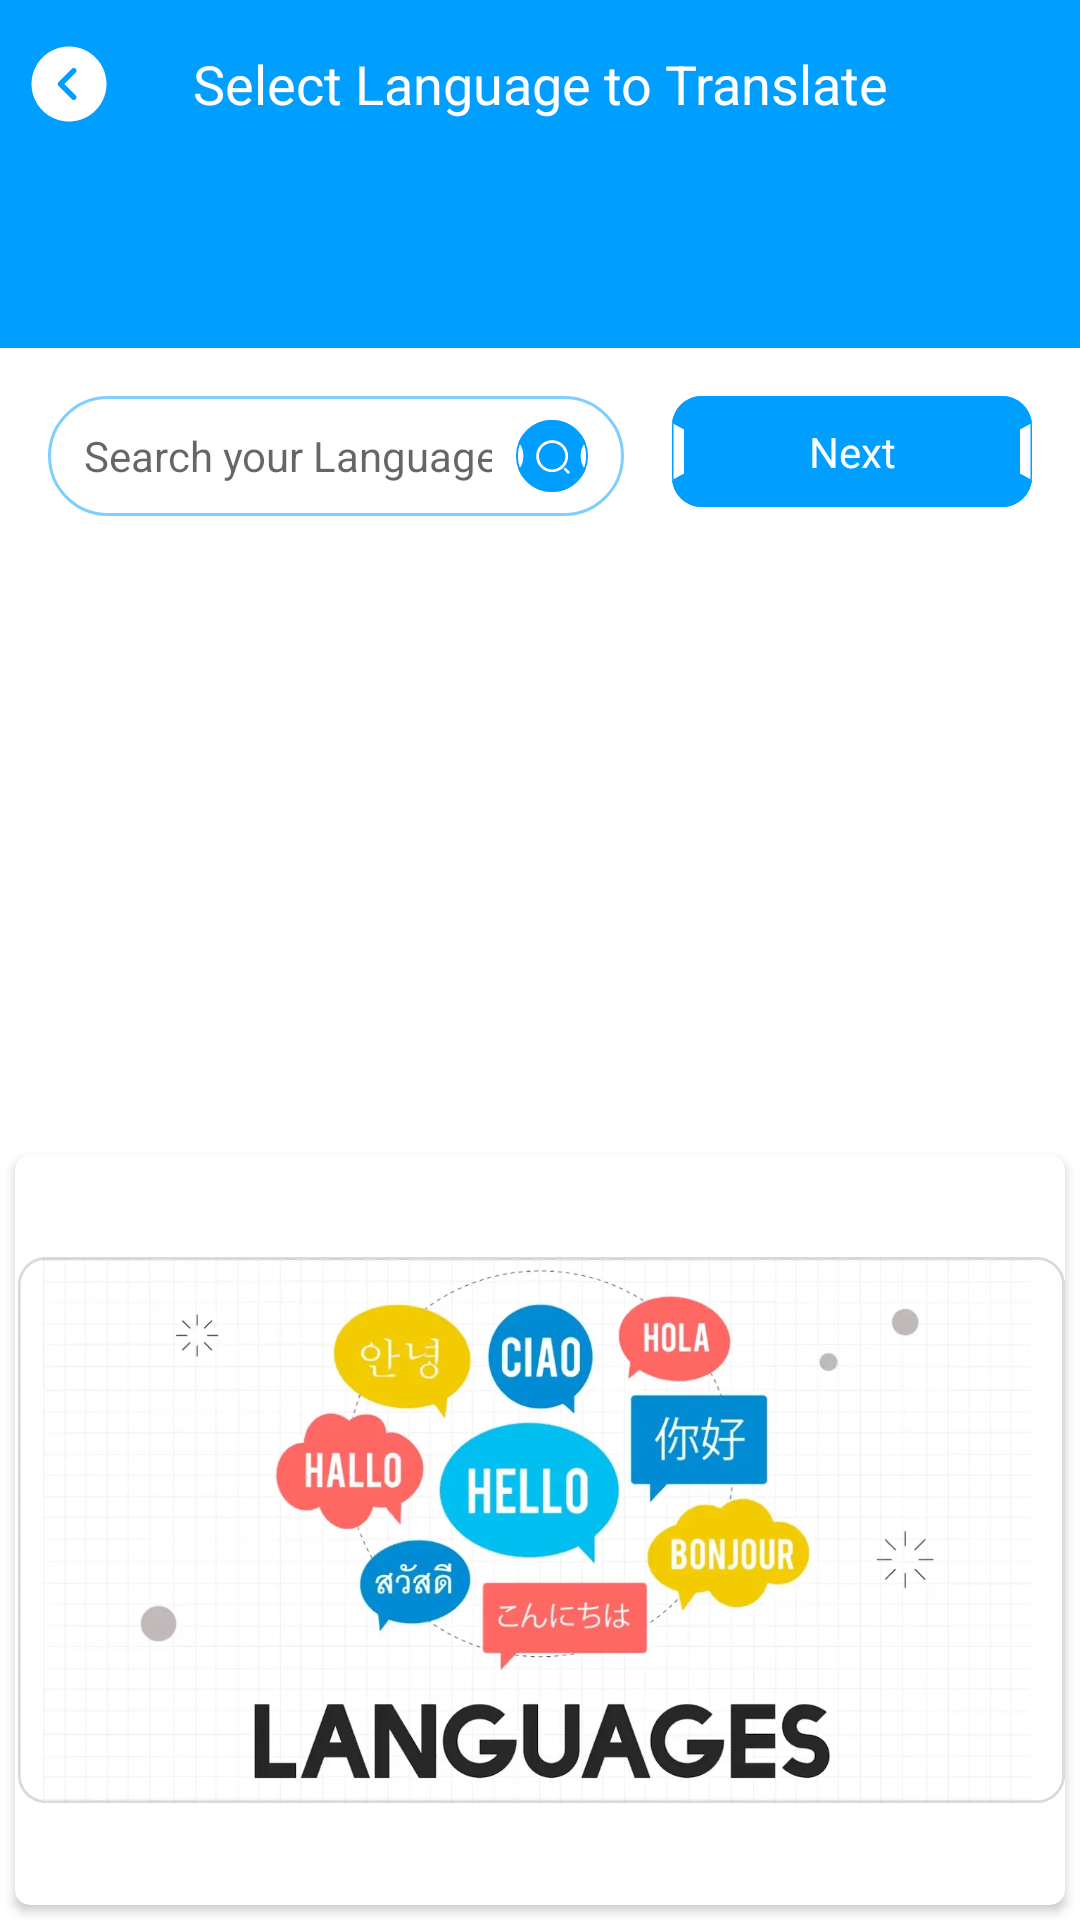

Screen size 1080px x 1920px. Icon name, then its box in pixels as (x1, y1, x2, y2):
back circle: (31, 46, 107, 122)
